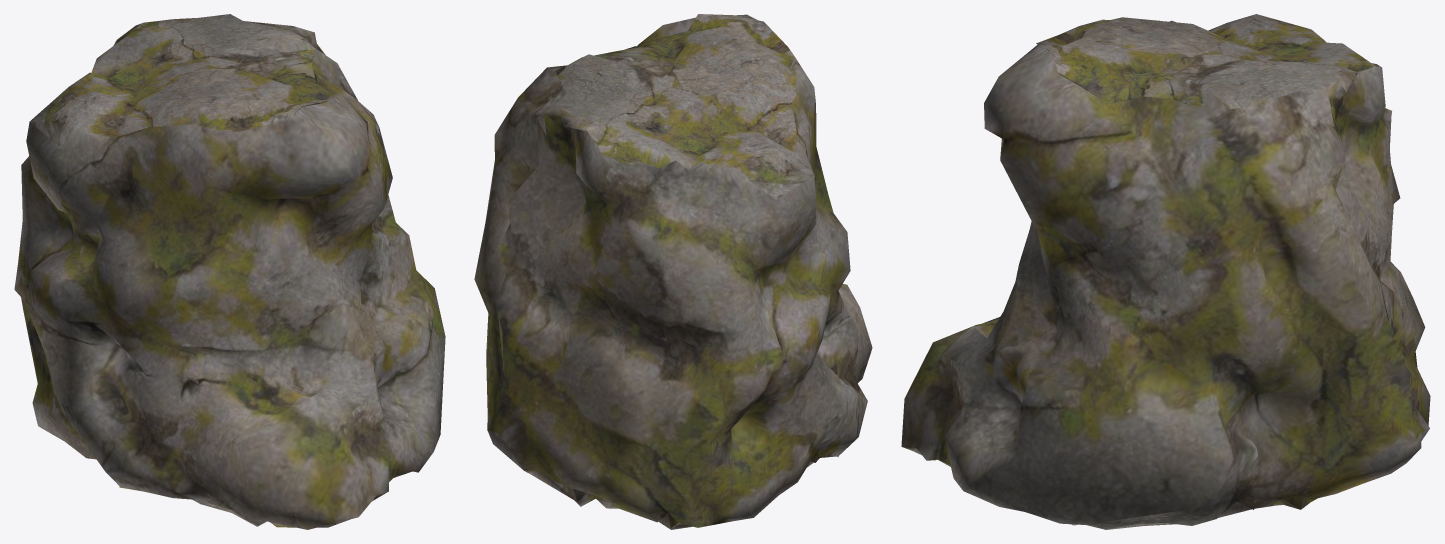
The model's file is rock_scl_1_008.glb.
3 views of the same model, side by side, from view 1: azimuth 30°, elevation 25°; view 2: azimuth 150°, elevation 25°; view 3: azimuth 270°, elevation 25° (orthographic). The views are drawn at different scales.
Parts seen in each view (by area): view 1: rock scl 1.008; view 2: rock scl 1.008; view 3: rock scl 1.008.
Boxes of the visible parts, <box> form: rock scl 1.008: <box>14,14,445,529</box>; rock scl 1.008: <box>474,14,872,529</box>; rock scl 1.008: <box>901,14,1430,529</box>.
Bounding box in the file's own units: 2.35 × 2.51 × 2.83.
Materials: 1 (1 with a texture image).
